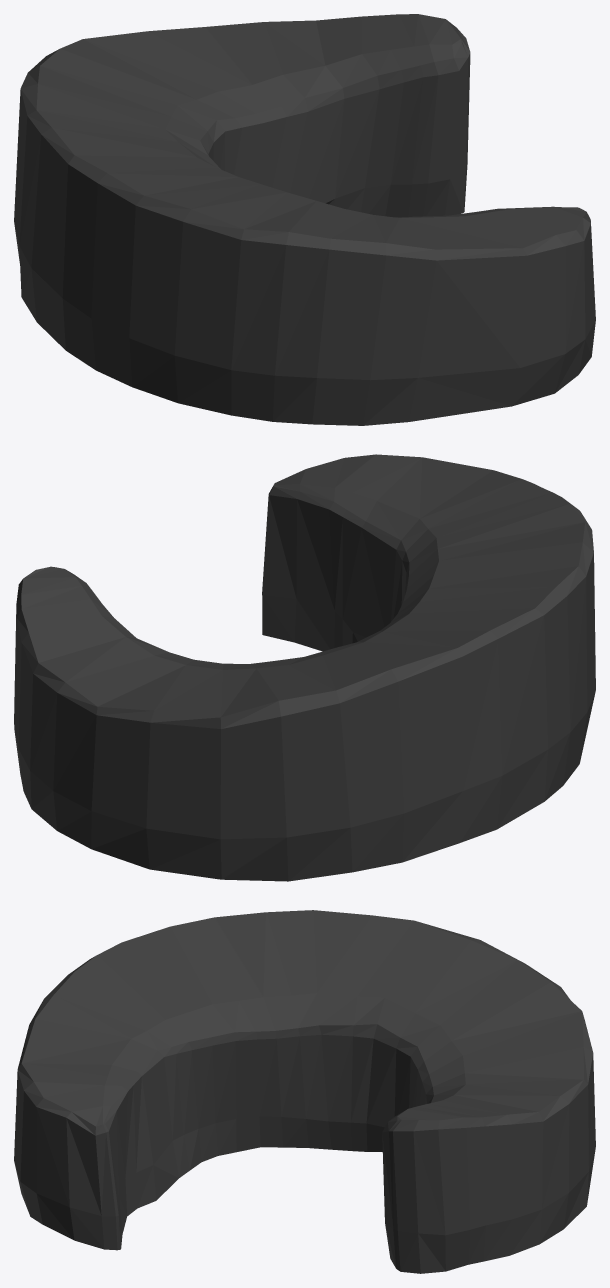
Rendered from Medial_meniscus.glb.
3 views of the same model, one above another, from view 1: azimuth 30°, elevation 25°; view 2: azimuth 150°, elevation 25°; view 3: azimuth 270°, elevation 25° (orthographic). The views are drawn at different scales.
Visible parts, largest first — view 1: Medial_meniscus; view 2: Medial_meniscus; view 3: Medial_meniscus.
Boxes of the visible parts, left/top/right/bottom form: Medial_meniscus: left=14, top=14, right=595, bottom=425; Medial_meniscus: left=14, top=454, right=595, bottom=881; Medial_meniscus: left=14, top=910, right=595, bottom=1273.
Size of the model in its own units: 0.1624 by 0.0697 by 0.2036.
1 material, 1 textured.
